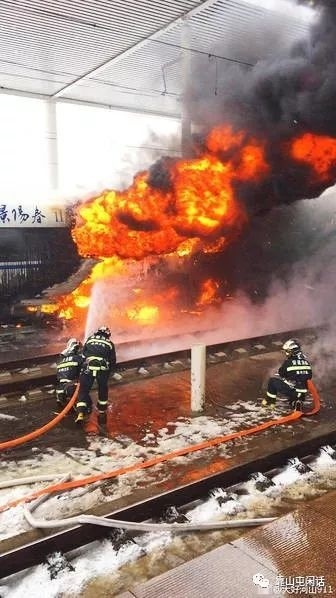fire: (42, 118, 336, 328)
